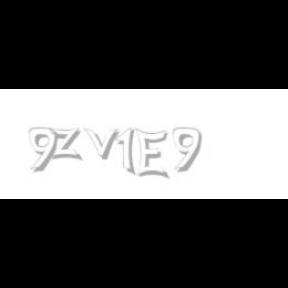1: (114, 128, 136, 176)
9: (28, 128, 58, 172), (172, 128, 202, 172)
E: (136, 128, 168, 180)
v: (83, 128, 123, 160)
z: (48, 128, 84, 160)
